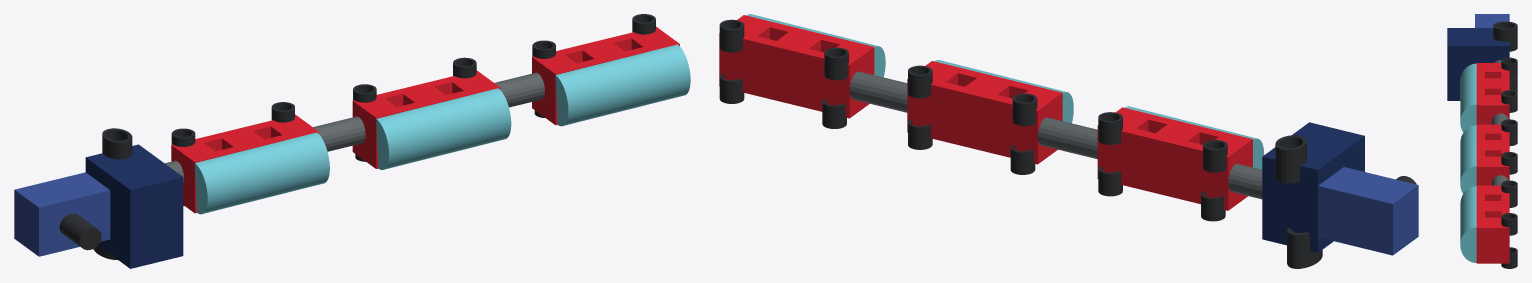
Rendered from tinker.obj.
3 views of the same model, side by side, from view 1: azimuth 30°, elevation 25°; view 2: azimuth 150°, elevation 25°; view 3: azimuth 270°, elevation 25° (orthographic). The views are drawn at different scales.
Parts seen in each view (by area): view 1: group_0_7720667, group_0_15277357, group_0_1650274, group_0_3888547, group_0_2829873, group_0_6383466; view 2: group_0_15277357, group_0_2829873, group_0_3888547, group_0_1650274, group_0_6383466, group_0_7720667; view 3: group_0_15277357, group_0_7720667, group_0_2829873, group_0_1650274, group_0_3888547, group_0_6383466.
Part boxes in pixels (x1,y1,x2,y2): group_0_7720667: (195,44,690,214); group_0_15277357: (171,26,679,213); group_0_1650274: (85,144,183,268); group_0_3888547: (14,172,110,256); group_0_2829873: (59,14,655,259); group_0_6383466: (165,72,544,183); group_0_15277357: (719,15,1252,210); group_0_2829873: (719,19,1416,268); group_0_3888547: (1318,167,1418,255); group_0_1650274: (1262,122,1364,252); group_0_6383466: (849,71,1262,199); group_0_7720667: (746,14,1264,169); group_0_15277357: (1476,63,1509,263); group_0_7720667: (1460,63,1476,262); group_0_2829873: (1493,21,1517,268); group_0_1650274: (1447,28,1509,100); group_0_3888547: (1475,14,1509,27); group_0_6383466: (1491,60,1508,185).
Bounding box in the file's own units: 315 × 52 × 43.
